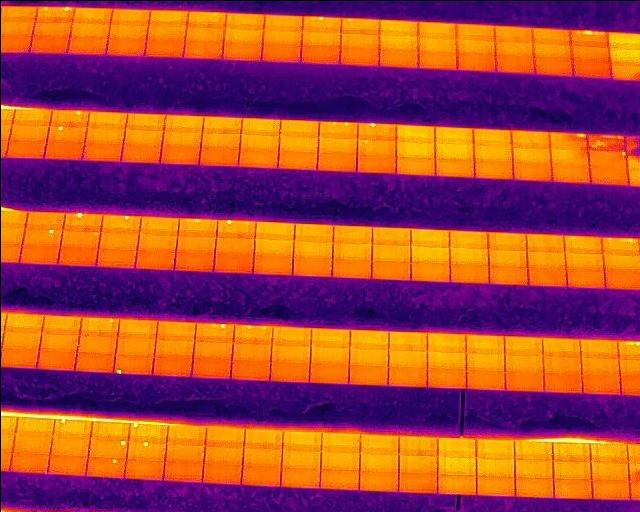Cell: (86, 456, 126, 476), (101, 213, 140, 233), (88, 438, 127, 458), (113, 353, 151, 373), (127, 440, 165, 460), (53, 419, 91, 438), (217, 218, 255, 237), (587, 148, 627, 166), (548, 130, 588, 148), (63, 212, 102, 230), (46, 124, 85, 142), (127, 422, 166, 440), (356, 138, 395, 155), (23, 228, 62, 245), (60, 229, 98, 246), (186, 10, 224, 26), (358, 123, 395, 139), (50, 110, 89, 125)
Cell-Multi: (177, 217, 217, 236), (233, 324, 272, 342), (588, 131, 626, 149), (80, 316, 119, 333), (600, 236, 640, 252), (318, 121, 357, 137), (195, 323, 234, 339), (568, 30, 607, 46), (300, 16, 339, 32), (35, 5, 73, 21)
No-Anomaly: (252, 220, 295, 241), (347, 363, 387, 384), (254, 236, 295, 256), (310, 326, 349, 347), (77, 332, 116, 353), (514, 477, 553, 498), (162, 111, 202, 131), (588, 442, 628, 462), (59, 245, 97, 266), (513, 458, 552, 478), (358, 470, 397, 490), (116, 335, 155, 355), (309, 362, 348, 382), (465, 369, 504, 389), (426, 331, 465, 351), (552, 478, 591, 498), (165, 442, 204, 462), (75, 350, 112, 371), (166, 424, 204, 444), (503, 335, 543, 354), (152, 355, 192, 374), (386, 365, 426, 384), (280, 468, 320, 487), (213, 254, 253, 273), (139, 216, 179, 235), (475, 476, 513, 496), (48, 454, 86, 474), (592, 480, 630, 500), (42, 314, 80, 334), (473, 439, 513, 458), (242, 445, 282, 464), (155, 336, 194, 355), (398, 472, 437, 491), (241, 465, 280, 484), (348, 345, 387, 364), (90, 419, 129, 438), (191, 356, 230, 375), (465, 333, 504, 352), (270, 361, 309, 380), (319, 469, 358, 488), (204, 426, 243, 445), (426, 367, 465, 386), (36, 349, 75, 368), (551, 459, 590, 478), (397, 435, 436, 454), (98, 230, 137, 249), (436, 437, 475, 456), (565, 268, 604, 287), (487, 247, 526, 266), (51, 436, 90, 455), (448, 229, 487, 248), (410, 261, 449, 280), (331, 258, 370, 277), (175, 251, 214, 270), (436, 475, 475, 494), (136, 251, 175, 270), (436, 455, 475, 474), (371, 226, 410, 245), (126, 459, 163, 479), (160, 127, 201, 145), (581, 373, 619, 392), (590, 461, 628, 480), (15, 416, 53, 435), (427, 349, 465, 368), (602, 269, 640, 288), (281, 448, 319, 467), (525, 233, 563, 252), (10, 452, 48, 471), (387, 348, 427, 366), (394, 155, 434, 173), (309, 344, 349, 362), (201, 464, 241, 482), (239, 117, 279, 135), (237, 148, 277, 166), (503, 371, 543, 389), (96, 248, 136, 266), (485, 231, 525, 249), (409, 229, 449, 247), (200, 146, 237, 165), (0, 348, 37, 367), (5, 312, 42, 331), (512, 160, 551, 178), (579, 355, 618, 373), (121, 142, 160, 160), (6, 140, 45, 158), (271, 343, 310, 361), (465, 352, 504, 370), (230, 359, 269, 377), (579, 338, 618, 356), (472, 127, 511, 145), (163, 462, 202, 480), (82, 142, 121, 160), (510, 128, 549, 146), (395, 124, 434, 142), (395, 139, 434, 157), (271, 325, 310, 343), (358, 452, 397, 470), (349, 328, 388, 346), (20, 245, 59, 263), (550, 442, 589, 460), (488, 266, 527, 284), (562, 235, 601, 253), (371, 260, 410, 278), (319, 450, 358, 468), (224, 11, 263, 29), (39, 332, 78, 350), (137, 234, 176, 252), (527, 267, 566, 285), (358, 434, 397, 452), (117, 317, 156, 335), (397, 454, 436, 472), (292, 256, 331, 274), (377, 49, 418, 66), (495, 54, 533, 72), (543, 354, 581, 372), (233, 342, 271, 360), (45, 141, 83, 159), (320, 433, 358, 451), (514, 440, 552, 458), (493, 24, 531, 42), (333, 224, 371, 242), (295, 223, 333, 241), (475, 458, 513, 476), (503, 354, 543, 371), (433, 125, 473, 142), (541, 372, 581, 389), (125, 111, 165, 128), (433, 141, 473, 158), (215, 237, 255, 254), (409, 245, 449, 262), (88, 109, 125, 127), (2, 331, 39, 349), (512, 144, 551, 161), (278, 150, 317, 167), (201, 116, 240, 133), (278, 119, 317, 136), (317, 137, 356, 154), (193, 340, 232, 357), (549, 145, 588, 162), (281, 431, 320, 448), (243, 428, 282, 445), (332, 241, 371, 258), (293, 239, 332, 256), (203, 446, 242, 463), (449, 246, 488, 263), (388, 330, 427, 347), (155, 320, 194, 337), (526, 250, 565, 267), (184, 24, 223, 41), (449, 263, 488, 280), (543, 337, 579, 355), (161, 144, 199, 161), (263, 13, 301, 30), (13, 436, 51, 453), (434, 158, 474, 174), (473, 158, 513, 174), (454, 37, 494, 53), (377, 19, 417, 35), (146, 39, 183, 56), (550, 162, 589, 178), (278, 135, 317, 151), (85, 126, 124, 142), (317, 153, 356, 169), (356, 155, 395, 171), (589, 166, 628, 182), (26, 213, 65, 229), (73, 7, 112, 23), (223, 27, 262, 43), (563, 252, 602, 268), (455, 53, 494, 69), (183, 41, 222, 57), (371, 244, 410, 260), (601, 253, 640, 269), (106, 37, 145, 53), (222, 43, 261, 59), (533, 58, 571, 74), (176, 236, 214, 252), (339, 17, 377, 33), (417, 21, 455, 37), (32, 21, 70, 37), (532, 42, 570, 58), (239, 133, 279, 148), (261, 45, 301, 60), (10, 124, 47, 140), (531, 26, 568, 42), (122, 128, 161, 143), (200, 132, 239, 147), (569, 61, 608, 76), (262, 30, 301, 45), (253, 256, 292, 271), (148, 9, 187, 24), (455, 23, 494, 38), (378, 34, 417, 49), (12, 110, 50, 125), (339, 48, 377, 63), (570, 46, 608, 61), (71, 23, 109, 38), (30, 37, 68, 52), (301, 45, 339, 60), (494, 40, 532, 55), (146, 24, 184, 39), (418, 51, 455, 66), (474, 145, 513, 159), (340, 33, 379, 47), (68, 38, 107, 52), (108, 23, 147, 37), (301, 31, 340, 45), (417, 36, 455, 50), (110, 10, 148, 23)
